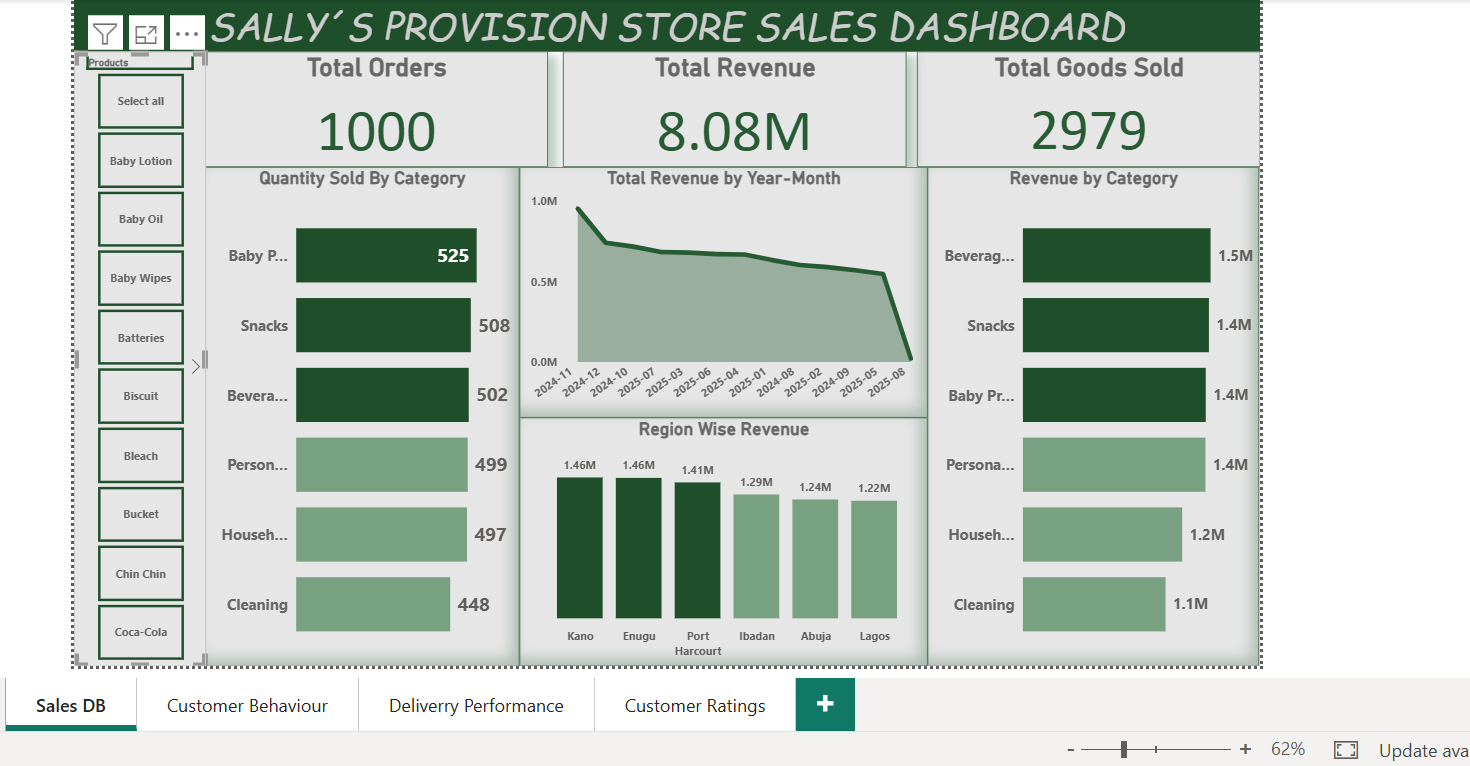

The page's visual inventory and layout, read from the dashboard file:
{"tool":"powerbi","page":{"name":"Sales DB","canvas":[1280,720],"ordinal":0},"visuals":[{"type":"shape","box":[0,0,1280.8,56.7],"z":0},{"type":"card","title":"Total Orders","fields":{"Values":["Sheet1.Order ID"]},"box":[140.9,56.7,370.8,124.7],"z":1000},{"type":"card","title":"Total Goods Sold","fields":{"Values":["Sheet1.Quantity"]},"box":[910,56.7,370.8,124.7],"z":2000},{"type":"card","title":"Total Revenue","fields":{"Values":["Sheet1.Total Amount"]},"box":[527.9,56.7,370.8,124.7],"z":3000},{"type":"clusteredBarChart","title":"Quantity Sold By Category","fields":{"Category":["Sheet1.Product Category"],"Y":["Sheet1.Quantity"]},"box":[140.9,181.4,340,539.2],"z":4000},{"type":"lineChart","title":"Total Revenue by Year-Month","fields":{"Category":["daxDateTable.Year-Month"],"Y":["Sheet1.Total Amount"]},"box":[480.9,181.4,440.4,270.4],"z":5000},{"type":"columnChart","title":"Region Wise Revenue","fields":{"Category":["Sheet1.Region"],"Y":["Sheet1.Total Amount"]},"box":[480.9,451.8,440.4,268.8],"z":6000},{"type":"barChart","title":"Revenue by Category","fields":{"Category":["Sheet1.Product Category"],"Y":["Sheet1.Total Amount"]},"box":[921.3,181.4,357.8,539.2],"z":7000},{"type":"shape","box":[0,56.7,140.9,663.9],"z":8000},{"type":"slicer","fields":{"Values":["Sheet1.Product Name"]},"box":[0,56.7,142.5,663.9],"z":9000}]}

Visuals, with their boxes on the page's 1280x720 design canvas (x1, y1, x2, y2). These are canvas units, not pixel positions in the 1470x766 screenshot, which may show the page scaled, cropped or inside an application window:
shape: [left=0, top=0, right=1281, bottom=57]
"Total Orders" card: [left=141, top=57, right=512, bottom=181]
"Total Goods Sold" card: [left=910, top=57, right=1281, bottom=181]
"Total Revenue" card: [left=528, top=57, right=899, bottom=181]
"Quantity Sold By Category" clusteredBarChart: [left=141, top=181, right=481, bottom=721]
"Total Revenue by Year-Month" lineChart: [left=481, top=181, right=921, bottom=452]
"Region Wise Revenue" columnChart: [left=481, top=452, right=921, bottom=721]
"Revenue by Category" barChart: [left=921, top=181, right=1279, bottom=721]
shape: [left=0, top=57, right=141, bottom=721]
slicer - Sheet1.Product Name: [left=0, top=57, right=142, bottom=721]
